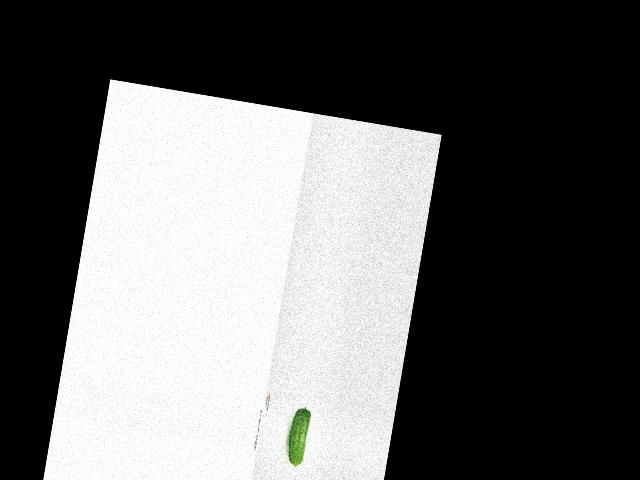cucumber: (284, 405, 312, 468)
